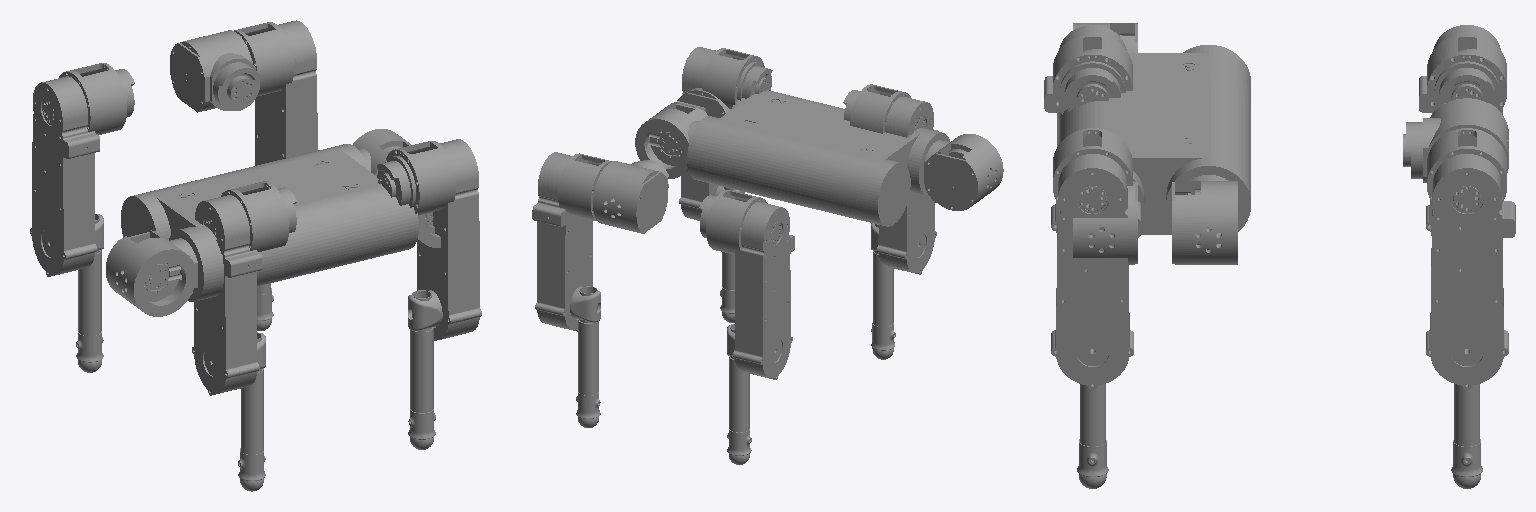
URDF robot description (mistletoe-v4):
<?xml version="1.0" ?>
<!-- =================================================================================== -->
<!-- |    This document was autogenerated by xacro from mistletoe-v4.xacro             | -->
<!-- |    EDITING THIS FILE BY HAND IS NOT RECOMMENDED                                 | -->
<!-- =================================================================================== -->
<robot name="mistletoe-v4">
  <material name="silver_default">
    <color rgba="0.700 0.700 0.700 1.000"/>
  </material>
  <material name="steel_satin">
    <color rgba="0.6274509803921569 0.6274509803921569 0.6274509803921569 1.0"/>
  </material>
  <transmission name="LEG_1_HFE_tran">
    <type>transmission_interface/SimpleTransmission</type>
    <joint name="LEG_1_HFE">
      <hardwareInterface>hardware_interface/EffortJointInterface</hardwareInterface>
    </joint>
    <actuator name="LEG_1_HFE_actr">
      <hardwareInterface>hardware_interface/EffortJointInterface</hardwareInterface>
      <mechanicalReduction>1</mechanicalReduction>
    </actuator>
  </transmission>
  <transmission name="LEG_2_HFE_tran">
    <type>transmission_interface/SimpleTransmission</type>
    <joint name="LEG_2_HFE">
      <hardwareInterface>hardware_interface/EffortJointInterface</hardwareInterface>
    </joint>
    <actuator name="LEG_2_HFE_actr">
      <hardwareInterface>hardware_interface/EffortJointInterface</hardwareInterface>
      <mechanicalReduction>1</mechanicalReduction>
    </actuator>
  </transmission>
  <transmission name="LEG_3_HFE_tran">
    <type>transmission_interface/SimpleTransmission</type>
    <joint name="LEG_3_HFE">
      <hardwareInterface>hardware_interface/EffortJointInterface</hardwareInterface>
    </joint>
    <actuator name="LEG_3_HFE_actr">
      <hardwareInterface>hardware_interface/EffortJointInterface</hardwareInterface>
      <mechanicalReduction>1</mechanicalReduction>
    </actuator>
  </transmission>
  <transmission name="LEG_4_HFE_tran">
    <type>transmission_interface/SimpleTransmission</type>
    <joint name="LEG_4_HFE">
      <hardwareInterface>hardware_interface/EffortJointInterface</hardwareInterface>
    </joint>
    <actuator name="LEG_4_HFE_actr">
      <hardwareInterface>hardware_interface/EffortJointInterface</hardwareInterface>
      <mechanicalReduction>1</mechanicalReduction>
    </actuator>
  </transmission>
  <transmission name="LEG_1_KFE_tran">
    <type>transmission_interface/SimpleTransmission</type>
    <joint name="LEG_1_KFE">
      <hardwareInterface>hardware_interface/EffortJointInterface</hardwareInterface>
    </joint>
    <actuator name="LEG_1_KFE_actr">
      <hardwareInterface>hardware_interface/EffortJointInterface</hardwareInterface>
      <mechanicalReduction>1</mechanicalReduction>
    </actuator>
  </transmission>
  <transmission name="LEG_2_KFE_tran">
    <type>transmission_interface/SimpleTransmission</type>
    <joint name="LEG_2_KFE">
      <hardwareInterface>hardware_interface/EffortJointInterface</hardwareInterface>
    </joint>
    <actuator name="LEG_2_KFE_actr">
      <hardwareInterface>hardware_interface/EffortJointInterface</hardwareInterface>
      <mechanicalReduction>1</mechanicalReduction>
    </actuator>
  </transmission>
  <transmission name="LEG_3_KFE_tran">
    <type>transmission_interface/SimpleTransmission</type>
    <joint name="LEG_3_KFE">
      <hardwareInterface>hardware_interface/EffortJointInterface</hardwareInterface>
    </joint>
    <actuator name="LEG_3_KFE_actr">
      <hardwareInterface>hardware_interface/EffortJointInterface</hardwareInterface>
      <mechanicalReduction>1</mechanicalReduction>
    </actuator>
  </transmission>
  <transmission name="LEG_4_KFE_tran">
    <type>transmission_interface/SimpleTransmission</type>
    <joint name="LEG_4_KFE">
      <hardwareInterface>hardware_interface/EffortJointInterface</hardwareInterface>
    </joint>
    <actuator name="LEG_4_KFE_actr">
      <hardwareInterface>hardware_interface/EffortJointInterface</hardwareInterface>
      <mechanicalReduction>1</mechanicalReduction>
    </actuator>
  </transmission>
  <transmission name="LEG_1_HAA_tran">
    <type>transmission_interface/SimpleTransmission</type>
    <joint name="LEG_1_HAA">
      <hardwareInterface>hardware_interface/EffortJointInterface</hardwareInterface>
    </joint>
    <actuator name="LEG_1_HAA_actr">
      <hardwareInterface>hardware_interface/EffortJointInterface</hardwareInterface>
      <mechanicalReduction>1</mechanicalReduction>
    </actuator>
  </transmission>
  <transmission name="LEG_2_HAA_tran">
    <type>transmission_interface/SimpleTransmission</type>
    <joint name="LEG_2_HAA">
      <hardwareInterface>hardware_interface/EffortJointInterface</hardwareInterface>
    </joint>
    <actuator name="LEG_2_HAA_actr">
      <hardwareInterface>hardware_interface/EffortJointInterface</hardwareInterface>
      <mechanicalReduction>1</mechanicalReduction>
    </actuator>
  </transmission>
  <transmission name="LEG_3_HAA_tran">
    <type>transmission_interface/SimpleTransmission</type>
    <joint name="LEG_3_HAA">
      <hardwareInterface>hardware_interface/EffortJointInterface</hardwareInterface>
    </joint>
    <actuator name="LEG_3_HAA_actr">
      <hardwareInterface>hardware_interface/EffortJointInterface</hardwareInterface>
      <mechanicalReduction>1</mechanicalReduction>
    </actuator>
  </transmission>
  <transmission name="LEG_4_HAA_tran">
    <type>transmission_interface/SimpleTransmission</type>
    <joint name="LEG_4_HAA">
      <hardwareInterface>hardware_interface/EffortJointInterface</hardwareInterface>
    </joint>
    <actuator name="LEG_4_HAA_actr">
      <hardwareInterface>hardware_interface/EffortJointInterface</hardwareInterface>
      <mechanicalReduction>1</mechanicalReduction>
    </actuator>
  </transmission>
  <link name="base_link">
    <inertial>
      <origin rpy="0 0 0" xyz="0.05700078839563821 0.1329991065435795 -3.2889851230878133e-06"/>
      <mass value="5.5104049208044765"/>
      <inertia ixx="0.044213" ixy="0.0" ixz="-0.0" iyy="0.020175" iyz="0.0" izz="0.057638"/>
    </inertial>
    <visual>
      <origin rpy="0 0 0" xyz="0 0 0"/>
      <geometry>
        <mesh filename="package://mistletoe-v4_description/meshes/base_link.stl" scale="0.001 0.001 0.001"/>
      </geometry>
      <material name="steel_satin"/>
    </visual>
    <collision>
      <origin rpy="0 0 0" xyz="0 0 0"/>
      <geometry>
        <mesh filename="package://mistletoe-v4_description/meshes/base_link.stl" scale="0.001 0.001 0.001"/>
      </geometry>
    </collision>
  </link>
  <link name="leg_1">
    <inertial>
      <origin rpy="0 0 0" xyz="0.05103625040586149 -0.001093563694212693 -0.0478466029212596"/>
      <mass value="0.7240002196192582"/>
      <inertia ixx="0.003876" ixy="-1.7e-05" ixz="0.000584" iyy="0.004023" iyz="4e-05" izz="0.000791"/>
    </inertial>
    <visual>
      <origin rpy="0 0 0" xyz="-0.14475 0.06675 -0.0"/>
      <geometry>
        <mesh filename="package://mistletoe-v4_description/meshes/leg_1.stl" scale="0.001 0.001 0.001"/>
      </geometry>
      <material name="steel_satin"/>
    </visual>
    <collision>
      <origin rpy="0 0 0" xyz="-0.14475 0.06675 -0.0"/>
      <geometry>
        <mesh filename="package://mistletoe-v4_description/meshes/leg_1.stl" scale="0.001 0.001 0.001"/>
      </geometry>
    </collision>
  </link>
  <link name="leg_2">
    <inertial>
      <origin rpy="0 0 0" xyz="-0.05103625040585766 0.0010935636942093763 -0.047846602921261125"/>
      <mass value="0.7240002196192582"/>
      <inertia ixx="0.003876" ixy="-1.7e-05" ixz="-0.000584" iyy="0.004023" iyz="-4e-05" izz="0.000791"/>
    </inertial>
    <visual>
      <origin rpy="0 0 0" xyz="0.03075 0.06675 -0.0"/>
      <geometry>
        <mesh filename="package://mistletoe-v4_description/meshes/leg_2.stl" scale="0.001 0.001 0.001"/>
      </geometry>
      <material name="steel_satin"/>
    </visual>
    <collision>
      <origin rpy="0 0 0" xyz="0.03075 0.06675 -0.0"/>
      <geometry>
        <mesh filename="package://mistletoe-v4_description/meshes/leg_2.stl" scale="0.001 0.001 0.001"/>
      </geometry>
    </collision>
  </link>
  <link name="leg_3">
    <inertial>
      <origin rpy="0 0 0" xyz="0.05103625040585327 -0.0010935636941842297 -0.04784660292125952"/>
      <mass value="0.7240002196192582"/>
      <inertia ixx="0.003876" ixy="-1.7e-05" ixz="0.000584" iyy="0.004023" iyz="4e-05" izz="0.000791"/>
    </inertial>
    <visual>
      <origin rpy="0 0 0" xyz="-0.14475 -0.33275 -0.0"/>
      <geometry>
        <mesh filename="package://mistletoe-v4_description/meshes/leg_3.stl" scale="0.001 0.001 0.001"/>
      </geometry>
      <material name="steel_satin"/>
    </visual>
    <collision>
      <origin rpy="0 0 0" xyz="-0.14475 -0.33275 -0.0"/>
      <geometry>
        <mesh filename="package://mistletoe-v4_description/meshes/leg_3.stl" scale="0.001 0.001 0.001"/>
      </geometry>
    </collision>
  </link>
  <link name="leg_4">
    <inertial>
      <origin rpy="0 0 0" xyz="-0.05103625040587105 0.0010935636941885596 -0.04784660292125831"/>
      <mass value="0.7240002196192582"/>
      <inertia ixx="0.003876" ixy="-1.7e-05" ixz="-0.000584" iyy="0.004023" iyz="-4e-05" izz="0.000791"/>
    </inertial>
    <visual>
      <origin rpy="0 0 0" xyz="0.03075 -0.33275 -0.0"/>
      <geometry>
        <mesh filename="package://mistletoe-v4_description/meshes/leg_4.stl" scale="0.001 0.001 0.001"/>
      </geometry>
      <material name="steel_satin"/>
    </visual>
    <collision>
      <origin rpy="0 0 0" xyz="0.03075 -0.33275 -0.0"/>
      <geometry>
        <mesh filename="package://mistletoe-v4_description/meshes/leg_4.stl" scale="0.001 0.001 0.001"/>
      </geometry>
    </collision>
  </link>
  <link name="ankle_1">
    <inertial>
      <origin rpy="0 0 0" xyz="-0.04946394692107786 -7.436600779620051e-09 -0.07474839788205012"/>
      <mass value="0.09600546785891005"/>
      <inertia ixx="0.000472" ixy="-0.0" ixz="-6.1e-05" iyy="0.000492" iyz="-0.0" izz="3.9e-05"/>
    </inertial>
    <visual>
      <origin rpy="0 0 0" xyz="-0.23591 0.06675 0.1799"/>
      <geometry>
        <mesh filename="package://mistletoe-v4_description/meshes/ankle_1.stl" scale="0.001 0.001 0.001"/>
      </geometry>
      <material name="steel_satin"/>
    </visual>
    <collision>
      <origin rpy="0 0 0" xyz="-0.23591 0.06675 0.1799"/>
      <geometry>
        <mesh filename="package://mistletoe-v4_description/meshes/ankle_1.stl" scale="0.001 0.001 0.001"/>
      </geometry>
    </collision>
  </link>
  <link name="ankle_2">
    <inertial>
      <origin rpy="0 0 0" xyz="0.04946394692108842 7.436594409715447e-09 -0.07474839788204435"/>
      <mass value="0.09600546785891005"/>
      <inertia ixx="0.000472" ixy="-0.0" ixz="6.1e-05" iyy="0.000492" iyz="0.0" izz="3.9e-05"/>
    </inertial>
    <visual>
      <origin rpy="0 0 0" xyz="0.12191 0.06675 0.1799"/>
      <geometry>
        <mesh filename="package://mistletoe-v4_description/meshes/ankle_2.stl" scale="0.001 0.001 0.001"/>
      </geometry>
      <material name="steel_satin"/>
    </visual>
    <collision>
      <origin rpy="0 0 0" xyz="0.12191 0.06675 0.1799"/>
      <geometry>
        <mesh filename="package://mistletoe-v4_description/meshes/ankle_2.stl" scale="0.001 0.001 0.001"/>
      </geometry>
    </collision>
  </link>
  <link name="ankle_3">
    <inertial>
      <origin rpy="0 0 0" xyz="-0.049463946921087826 -7.436600890642353e-09 -0.07474839788202936"/>
      <mass value="0.09600546785891005"/>
      <inertia ixx="0.000472" ixy="-0.0" ixz="-6.1e-05" iyy="0.000492" iyz="-0.0" izz="3.9e-05"/>
    </inertial>
    <visual>
      <origin rpy="0 0 0" xyz="-0.23591 -0.33275 0.1799"/>
      <geometry>
        <mesh filename="package://mistletoe-v4_description/meshes/ankle_3.stl" scale="0.001 0.001 0.001"/>
      </geometry>
      <material name="steel_satin"/>
    </visual>
    <collision>
      <origin rpy="0 0 0" xyz="-0.23591 -0.33275 0.1799"/>
      <geometry>
        <mesh filename="package://mistletoe-v4_description/meshes/ankle_3.stl" scale="0.001 0.001 0.001"/>
      </geometry>
    </collision>
  </link>
  <link name="ankle_4">
    <inertial>
      <origin rpy="0 0 0" xyz="0.04946394692107019 7.436615101497068e-09 -0.07474839788202953"/>
      <mass value="0.09600546785891005"/>
      <inertia ixx="0.000472" ixy="-0.0" ixz="6.1e-05" iyy="0.000492" iyz="0.0" izz="3.9e-05"/>
    </inertial>
    <visual>
      <origin rpy="0 0 0" xyz="0.12191 -0.33275 0.1799"/>
      <geometry>
        <mesh filename="package://mistletoe-v4_description/meshes/ankle_4.stl" scale="0.001 0.001 0.001"/>
      </geometry>
      <material name="steel_satin"/>
    </visual>
    <collision>
      <origin rpy="0 0 0" xyz="0.12191 -0.33275 0.1799"/>
      <geometry>
        <mesh filename="package://mistletoe-v4_description/meshes/ankle_4.stl" scale="0.001 0.001 0.001"/>
      </geometry>
    </collision>
  </link>
  <link name="hip_1">
    <inertial>
      <origin rpy="0 0 0" xyz="0.00033200789532825126 -0.043486743444365664 -3.0695740535901812e-06"/>
      <mass value="0.5061938145713982"/>
      <inertia ixx="0.000507" ixy="0.0" ixz="-1e-06" iyy="0.000367" iyz="2e-06" izz="0.00044"/>
    </inertial>
    <visual>
      <origin rpy="0 0 0" xyz="-0.114 0.02 -0.0"/>
      <geometry>
        <mesh filename="package://mistletoe-v4_description/meshes/hip_1.stl" scale="0.001 0.001 0.001"/>
      </geometry>
      <material name="steel_satin"/>
    </visual>
    <collision>
      <origin rpy="0 0 0" xyz="-0.114 0.02 -0.0"/>
      <geometry>
        <mesh filename="package://mistletoe-v4_description/meshes/hip_1.stl" scale="0.001 0.001 0.001"/>
      </geometry>
    </collision>
  </link>
  <link name="hip_2">
    <inertial>
      <origin rpy="0 0 0" xyz="-0.00033200789532815975 -0.043486743444365636 3.0695740642318733e-06"/>
      <mass value="0.5061938145713982"/>
      <inertia ixx="0.000507" ixy="-0.0" ixz="-1e-06" iyy="0.000367" iyz="-2e-06" izz="0.00044"/>
    </inertial>
    <visual>
      <origin rpy="0 0 0" xyz="-0.0 0.02 -0.0"/>
      <geometry>
        <mesh filename="package://mistletoe-v4_description/meshes/hip_2.stl" scale="0.001 0.001 0.001"/>
      </geometry>
      <material name="steel_satin"/>
    </visual>
    <collision>
      <origin rpy="0 0 0" xyz="-0.0 0.02 -0.0"/>
      <geometry>
        <mesh filename="package://mistletoe-v4_description/meshes/hip_2.stl" scale="0.001 0.001 0.001"/>
      </geometry>
    </collision>
  </link>
  <link name="hip_3">
    <inertial>
      <origin rpy="0 0 0" xyz="0.0003320078953200356 0.04348674344436587 3.0695740535902494e-06"/>
      <mass value="0.5061938145713982"/>
      <inertia ixx="0.000507" ixy="-0.0" ixz="1e-06" iyy="0.000367" iyz="2e-06" izz="0.00044"/>
    </inertial>
    <visual>
      <origin rpy="0 0 0" xyz="-0.114 -0.286 -0.0"/>
      <geometry>
        <mesh filename="package://mistletoe-v4_description/meshes/hip_3.stl" scale="0.001 0.001 0.001"/>
      </geometry>
      <material name="steel_satin"/>
    </visual>
    <collision>
      <origin rpy="0 0 0" xyz="-0.114 -0.286 -0.0"/>
      <geometry>
        <mesh filename="package://mistletoe-v4_description/meshes/hip_3.stl" scale="0.001 0.001 0.001"/>
      </geometry>
    </collision>
  </link>
  <link name="hip_4">
    <inertial>
      <origin rpy="0 0 0" xyz="-0.0003320078953364699 0.04348674344436604 -3.0695740517278616e-06"/>
      <mass value="0.5061938145713982"/>
      <inertia ixx="0.000507" ixy="0.0" ixz="1e-06" iyy="0.000367" iyz="-2e-06" izz="0.00044"/>
    </inertial>
    <visual>
      <origin rpy="0 0 0" xyz="-0.0 -0.286 -0.0"/>
      <geometry>
        <mesh filename="package://mistletoe-v4_description/meshes/hip_4.stl" scale="0.001 0.001 0.001"/>
      </geometry>
      <material name="steel_satin"/>
    </visual>
    <collision>
      <origin rpy="0 0 0" xyz="-0.0 -0.286 -0.0"/>
      <geometry>
        <mesh filename="package://mistletoe-v4_description/meshes/hip_4.stl" scale="0.001 0.001 0.001"/>
      </geometry>
    </collision>
  </link>
  <joint name="LEG_1_HFE" type="continuous">
    <origin rpy="0 0 0" xyz="0.03075 -0.04675 0.0"/>
    <parent link="hip_1"/>
    <child link="leg_1"/>
    <axis xyz="1.0 -0.0 0.0"/>
  </joint>
  <joint name="LEG_2_HFE" type="continuous">
    <origin rpy="0 0 0" xyz="-0.03075 -0.04675 0.0"/>
    <parent link="hip_2"/>
    <child link="leg_2"/>
    <axis xyz="-1.0 0.0 -0.0"/>
  </joint>
  <joint name="LEG_3_HFE" type="continuous">
    <origin rpy="0 0 0" xyz="0.03075 0.04675 0.0"/>
    <parent link="hip_3"/>
    <child link="leg_3"/>
    <axis xyz="1.0 0.0 0.0"/>
  </joint>
  <joint name="LEG_4_HFE" type="continuous">
    <origin rpy="0 0 0" xyz="-0.03075 0.04675 0.0"/>
    <parent link="hip_4"/>
    <child link="leg_4"/>
    <axis xyz="-1.0 -0.0 0.0"/>
  </joint>
  <joint name="LEG_1_KFE" type="continuous">
    <origin rpy="0 0 0" xyz="0.09116 0.0 -0.1799"/>
    <parent link="leg_1"/>
    <child link="ankle_1"/>
    <axis xyz="-1.0 -0.0 -0.0"/>
  </joint>
  <joint name="LEG_2_KFE" type="continuous">
    <origin rpy="0 0 0" xyz="-0.09116 0.0 -0.1799"/>
    <parent link="leg_2"/>
    <child link="ankle_2"/>
    <axis xyz="1.0 0.0 0.0"/>
  </joint>
  <joint name="LEG_3_KFE" type="continuous">
    <origin rpy="0 0 0" xyz="0.09116 0.0 -0.1799"/>
    <parent link="leg_3"/>
    <child link="ankle_3"/>
    <axis xyz="-1.0 -0.0 -0.0"/>
  </joint>
  <joint name="LEG_4_KFE" type="continuous">
    <origin rpy="0 0 0" xyz="-0.09116 0.0 -0.1799"/>
    <parent link="leg_4"/>
    <child link="ankle_4"/>
    <axis xyz="1.0 0.0 -0.0"/>
  </joint>
  <joint name="LEG_1_HAA" type="continuous">
    <origin rpy="0 0 0" xyz="0.114 -0.02 0.0"/>
    <parent link="base_link"/>
    <child link="hip_1"/>
    <axis xyz="0.0 -1.0 0.0"/>
  </joint>
  <joint name="LEG_2_HAA" type="continuous">
    <origin rpy="0 0 0" xyz="0.0 -0.02 0.0"/>
    <parent link="base_link"/>
    <child link="hip_2"/>
    <axis xyz="0.0 -1.0 0.0"/>
  </joint>
  <joint name="LEG_3_HAA" type="continuous">
    <origin rpy="0 0 0" xyz="0.114 0.286 0.0"/>
    <parent link="base_link"/>
    <child link="hip_3"/>
    <axis xyz="0.0 1.0 0.0"/>
  </joint>
  <joint name="LEG_4_HAA" type="continuous">
    <origin rpy="0 0 0" xyz="0.0 0.286 0.0"/>
    <parent link="base_link"/>
    <child link="hip_4"/>
    <axis xyz="0.0 1.0 0.0"/>
  </joint>
</robot>

--- What the picture shows (computed from the rendered views, not written in the file) ---
3 views of the same robot in one strip: view 1: azimuth 30°, elevation 25°; view 2: azimuth 150°, elevation 25°; view 3: azimuth 270°, elevation 25° (orthographic).
Model mistletoe-v4 with 13 links and 12 joints (12 continuous), rooted at base_link, posed all joints at 0.
Visible links, largest first — view 1: base_link, leg_4, leg_2, leg_1, leg_3, hip_4, hip_3, ankle_1, ankle_4, ankle_2, hip_1, ankle_3 (+1 smaller); view 2: base_link, leg_4, leg_3, leg_2, leg_1, hip_4, hip_3, hip_1, ankle_3, ankle_4, ankle_2, ankle_1 (+1 smaller); view 3: base_link, leg_3, leg_1, leg_2, leg_4, hip_1, hip_3, ankle_1, ankle_3, hip_2, hip_4.
Boxes of the visible links, <box> form: base_link: <box>121,144,418,301</box>; leg_4: <box>30,63,134,276</box>; leg_2: <box>192,181,296,395</box>; leg_1: <box>377,139,481,340</box>; leg_3: <box>234,20,317,165</box>; hip_4: <box>106,230,197,316</box>; hip_3: <box>170,30,260,112</box>; ankle_1: <box>408,290,442,449</box>; ankle_4: <box>43,214,103,372</box>; ankle_2: <box>205,332,265,491</box>; hip_1: <box>353,129,410,175</box>; ankle_3: <box>257,283,273,330</box>; base_link: <box>687,90,949,226</box>; leg_4: <box>699,190,794,379</box>; leg_3: <box>532,152,611,331</box>; leg_2: <box>843,84,938,274</box>; leg_1: <box>677,47,772,220</box>; hip_4: <box>924,134,1003,210</box>; hip_3: <box>593,160,668,233</box>; hip_1: <box>635,102,707,178</box>; ankle_3: <box>570,286,600,427</box>; ankle_4: <box>727,324,780,464</box>; ankle_2: <box>871,223,924,359</box>; ankle_1: <box>715,186,744,322</box>; base_link: <box>1059,45,1250,234</box>; leg_3: <box>1426,128,1515,389</box>; leg_1: <box>1051,128,1140,389</box>; leg_2: <box>1044,25,1132,232</box>; leg_4: <box>1419,25,1506,235</box>; hip_1: <box>1172,175,1237,264</box>; hip_3: <box>1403,98,1508,182</box>; ankle_1: <box>1077,339,1108,488</box>; ankle_3: <box>1451,339,1482,488</box>; hip_2: <box>1073,181,1137,264</box>; hip_4: <box>1073,23,1137,52</box>.
Bounding box of the posed robot: 0.489 × 0.5026 × 0.4122 m (x, y, z).
Meshes: 13 distinct files referenced, 13 mesh visuals loaded (13 binary STL).
